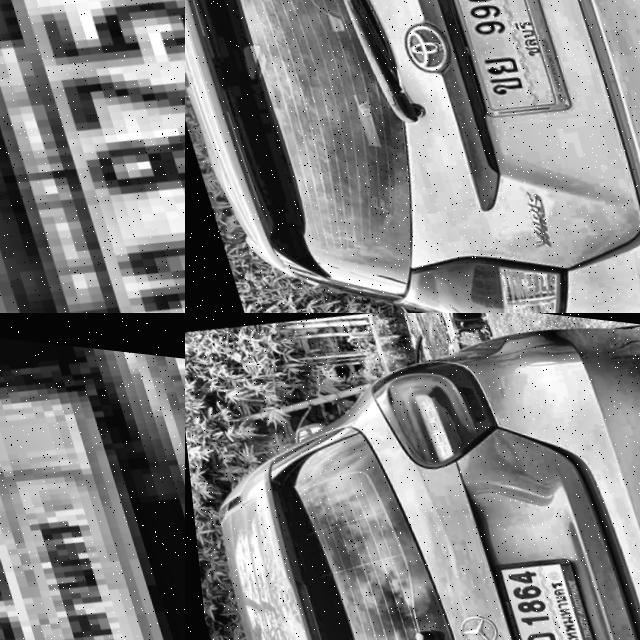license-plate: (0, 313, 185, 640), (0, 0, 185, 313), (428, 0, 567, 121), (480, 539, 604, 640)
